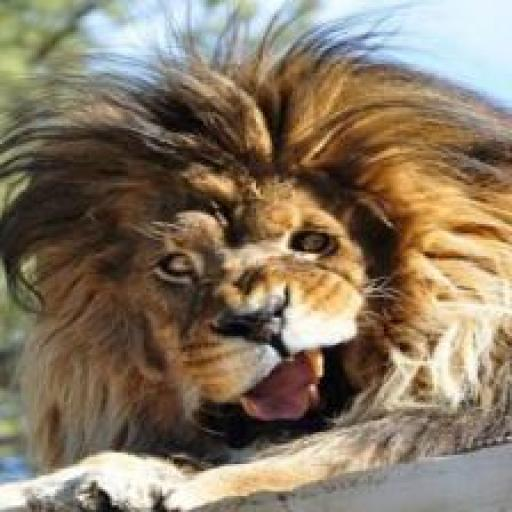lion: (25, 91, 487, 496)
